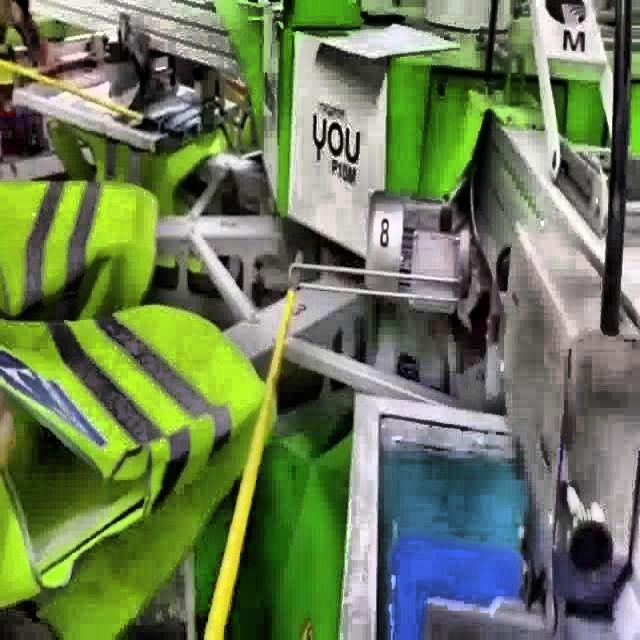safety_jacket: (0, 312, 278, 640), (0, 180, 160, 322)
